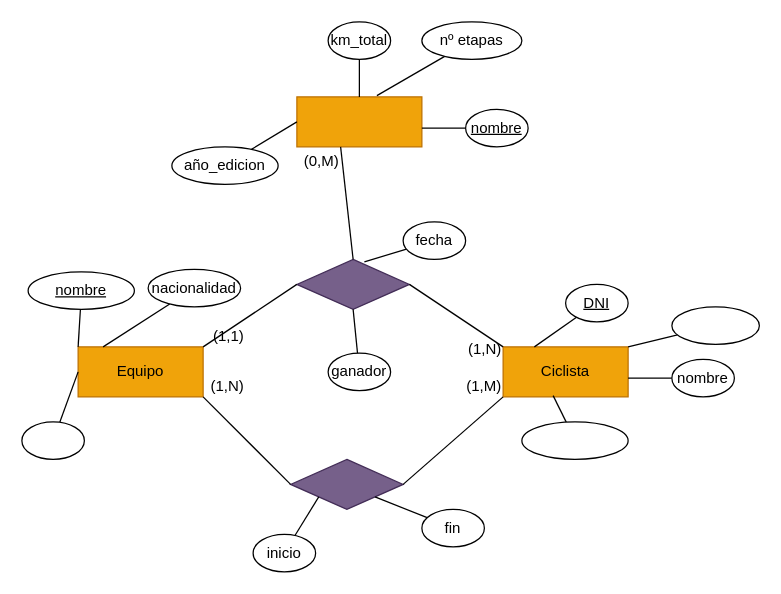
Some shapes in this 781 by 594 pixel diagram are drawn without their labels. The shapes that lost their labels are listed below. From the top down, each one's box as (x1, y1, x2, y2) in pixels, then its label:
(296, 96, 422, 147): Prueba
(296, 258, 409, 309): participa
(671, 306, 759, 344): nacimiento
(21, 421, 84, 459): director
(521, 421, 628, 459): ancionalidad
(289, 458, 403, 509): pertenece
